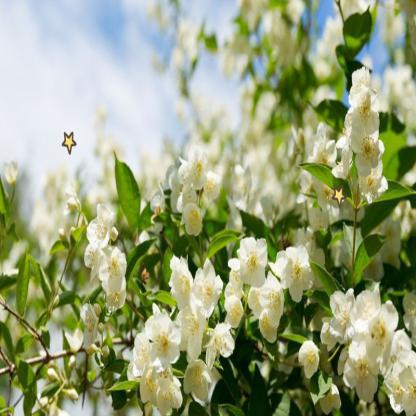Melati: (332, 279, 416, 416), (138, 279, 225, 407), (315, 85, 390, 230), (237, 226, 312, 351), (79, 204, 132, 340), (170, 150, 218, 245)
